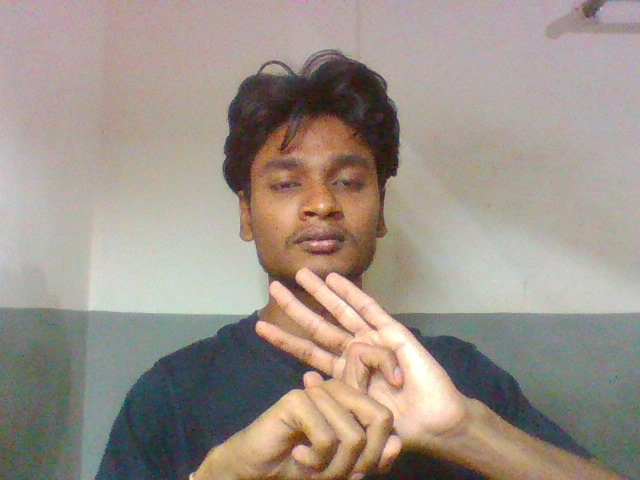R: (228, 263, 482, 480)
